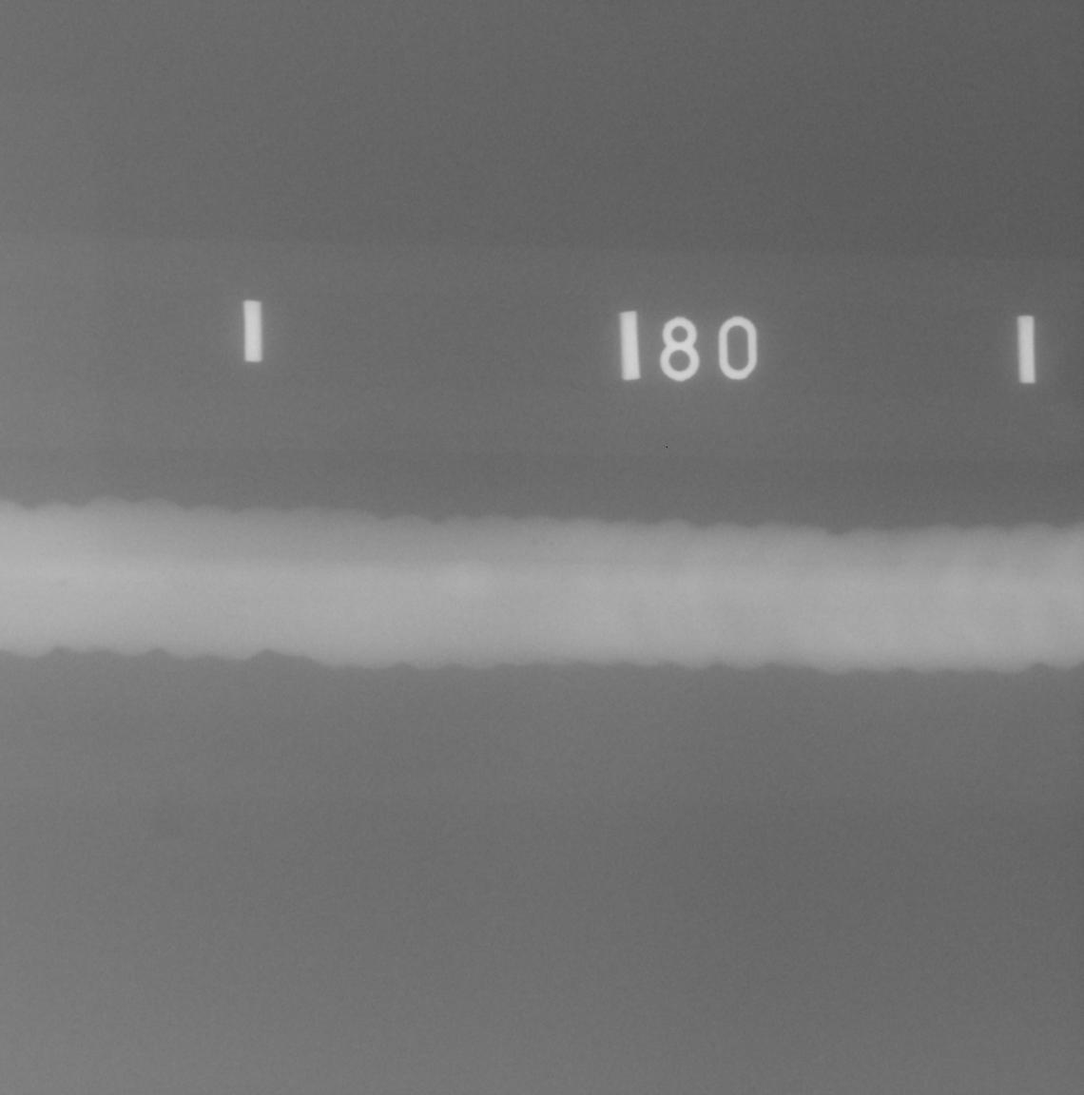Pore/Porosity: (59, 580, 68, 588), (532, 540, 539, 544), (57, 542, 62, 547), (551, 541, 556, 545)
